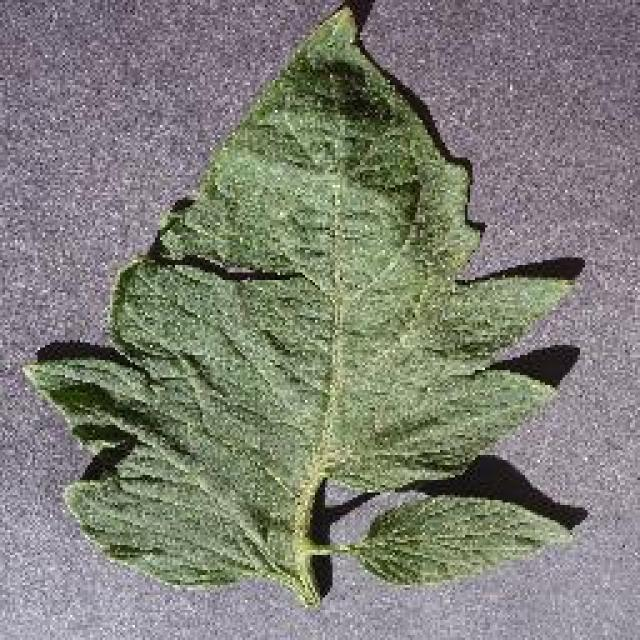Tomato healthy leaf: (29, 9, 561, 594)
